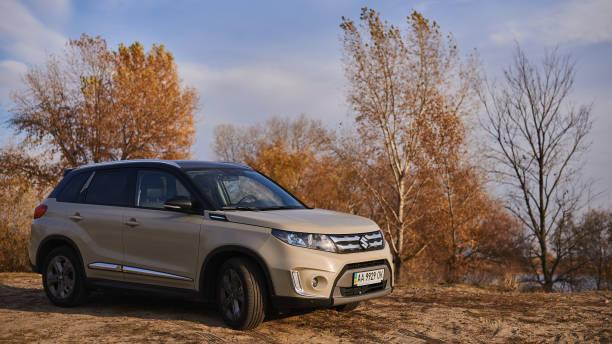suzuki: (356, 234, 373, 251)
